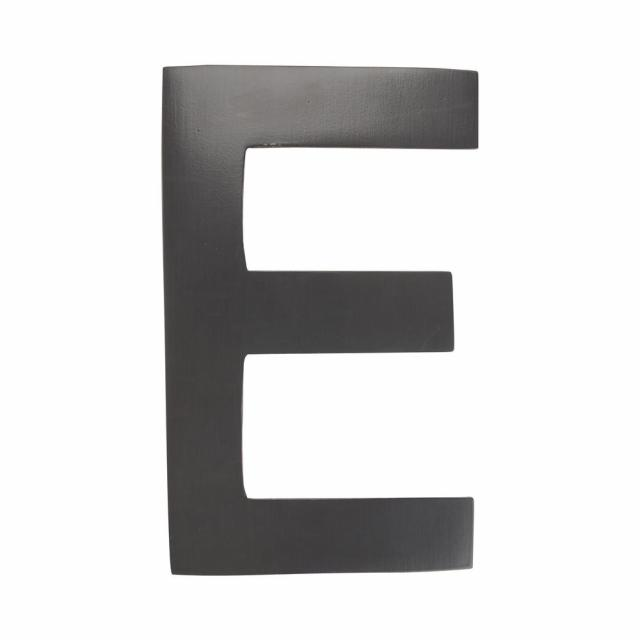E: (73, 28, 558, 623)
